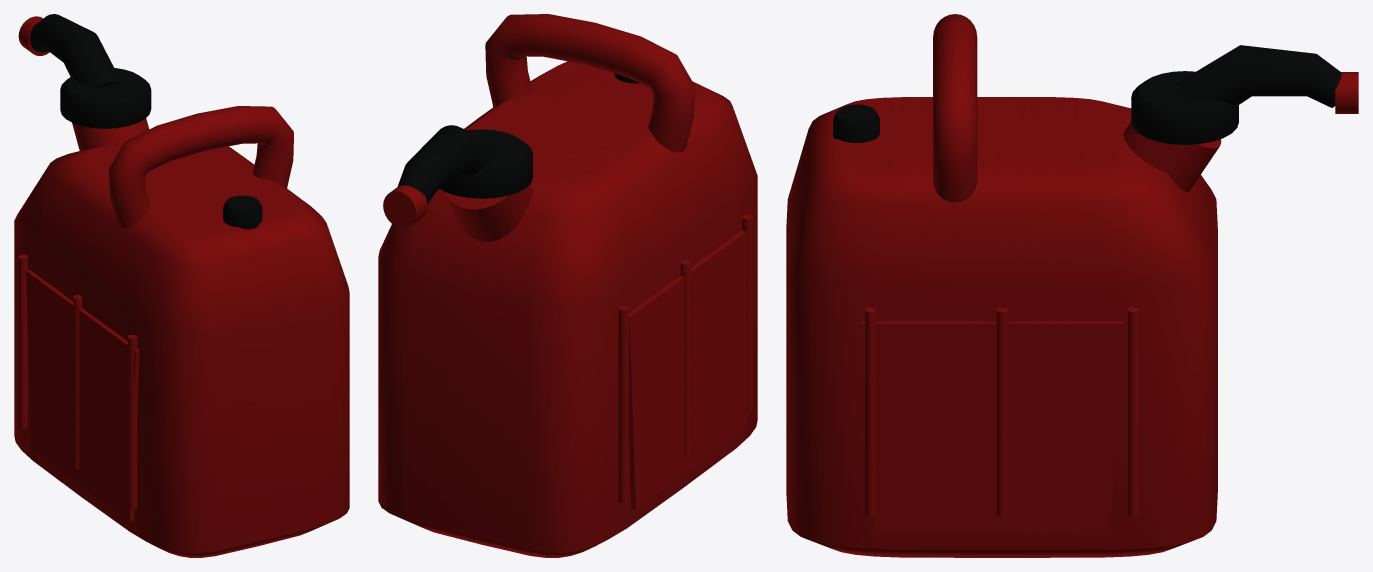
The model's file is GasCan.gltf.
3 renders of one model, left to right at view 1: azimuth 30°, elevation 25°; view 2: azimuth 150°, elevation 25°; view 3: azimuth 270°, elevation 25°, orthographic. The views are drawn at different scales.
Visible parts, largest first — view 1: GasCan__Body; view 2: GasCan__Body; view 3: GasCan__Body.
Boxes of the visible parts, x1=… form: GasCan__Body: x1=14, y1=14, x2=349, y2=557; GasCan__Body: x1=378, y1=14, x2=757, y2=557; GasCan__Body: x1=786, y1=14, x2=1358, y2=557.
Bounding box in the file's own units: 0.1768 × 0.3047 × 0.3378.
Materials: 1 (1 with a texture image).
